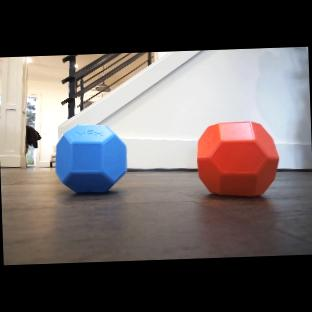V5_BLUE: (54, 123, 129, 196)
V5_RED: (197, 120, 281, 200)
